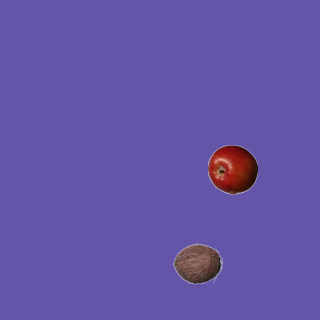Apple Braeburn: (207, 144, 257, 194)
Cocos: (172, 238, 222, 288)
